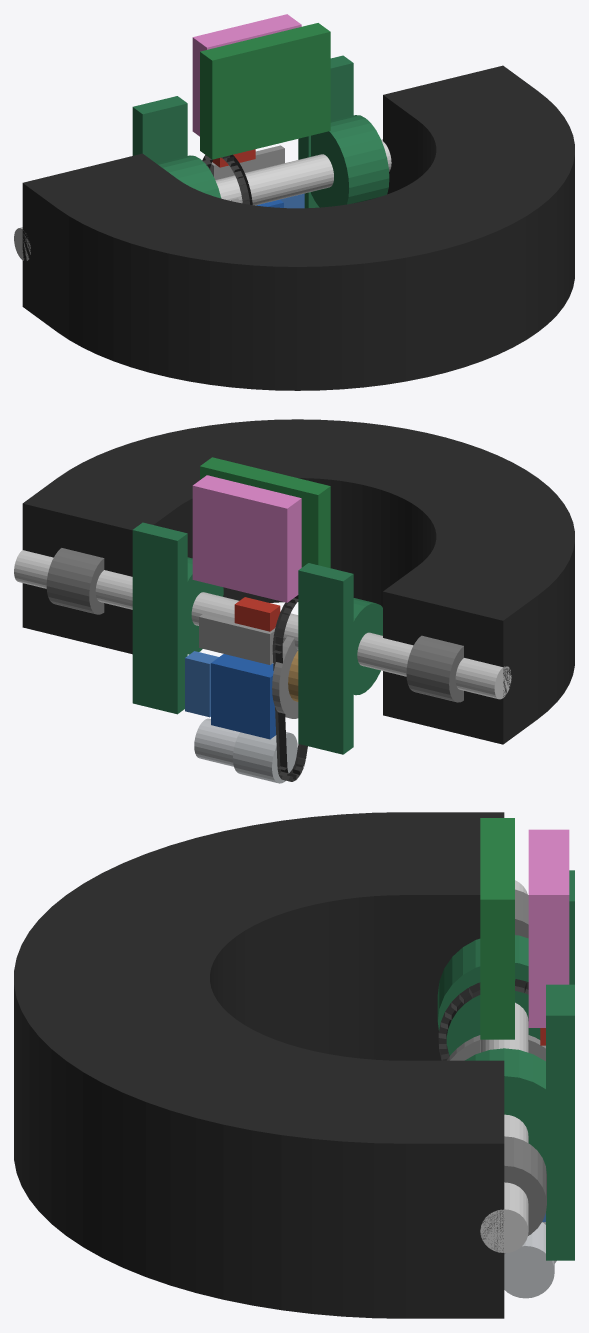
The model's file is PARKFNB_V2_RevF_3D_INTERNALS_box_hidden.obj.
The picture shows the model from 3 angles, top to bottom: view 1: azimuth 30°, elevation 25°; view 2: azimuth 150°, elevation 25°; view 3: azimuth 270°, elevation 25°; orthographic projection. The views are drawn at different scales.
Parts seen in each view (by area): view 1: tyre, controller PCB 100x80 + ESP32 (deck L2), bearing, shaft, battery holder 4x18650 (V1, 80x76x21), BMS 4S 60x25, chain; view 2: tyre, bearing, battery holder 4x18650 (V1, 80x76x21), shaft, arch_bracket, IBT-2 BTS7960 module 50x50 (no heatsink), controller PCB 100x80 + ESP32 (deck L2), BMS 4S 60x25, gearbox, chain, buck LM2596 module 43x21, motor (+2 smaller); view 3: tyre, bearing, controller PCB 100x80 + ESP32 (deck L2), battery holder 4x18650 (V1, 80x76x21), shaft, arch_bracket, motor, chain, sprocket.
Part boxes in pixels (x1=…): tyre: x1=22, y1=65, x2=574, y2=390; controller PCB 100x80 + ESP32 (deck L2): x1=200, y1=23, x2=330, y2=159; bearing: x1=132, y1=55, x2=389, y2=208; shaft: x1=14, y1=139, x2=391, y2=260; battery holder 4x18650 (V1, 80x76x21): x1=192, y1=14, x2=301, y2=136; BMS 4S 60x25: x1=210, y1=145, x2=284, y2=179; chain: x1=202, y1=154, x2=252, y2=204; tyre: x1=22, y1=419, x2=574, y2=744; bearing: x1=132, y1=522, x2=382, y2=754; battery holder 4x18650 (V1, 80x76x21): x1=192, y1=475, x2=301, y2=602; shaft: x1=14, y1=550, x2=511, y2=699; arch_bracket: x1=46, y1=548, x2=463, y2=702; IBT-2 BTS7960 module 50x50 (no heatsink): x1=211, y1=654, x2=275, y2=739; controller PCB 100x80 + ESP32 (deck L2): x1=200, y1=457, x2=330, y2=568; BMS 4S 60x25: x1=199, y1=614, x2=274, y2=664; gearbox: x1=233, y1=732, x2=297, y2=783; chain: x1=272, y1=595, x2=307, y2=781; buck LM2596 module 43x21: x1=185, y1=651, x2=218, y2=717; motor: x1=194, y1=718, x2=239, y2=766; tyre: x1=14, y1=812, x2=504, y2=1318; bearing: x1=437, y1=870, x2=574, y2=1260; controller PCB 100x80 + ESP32 (deck L2): x1=480, y1=818, x2=514, y2=1039; battery holder 4x18650 (V1, 80x76x21): x1=528, y1=829, x2=569, y2=1027; shaft: x1=480, y1=880, x2=528, y2=1252; arch_bracket: x1=504, y1=889, x2=546, y2=1235; motor: x1=504, y1=1222, x2=554, y2=1298; chain: x1=438, y1=979, x2=528, y2=1060; sprocket: x1=447, y1=1035, x2=545, y2=1061.
Size of the model in its own units: 406 by 235 by 290.
